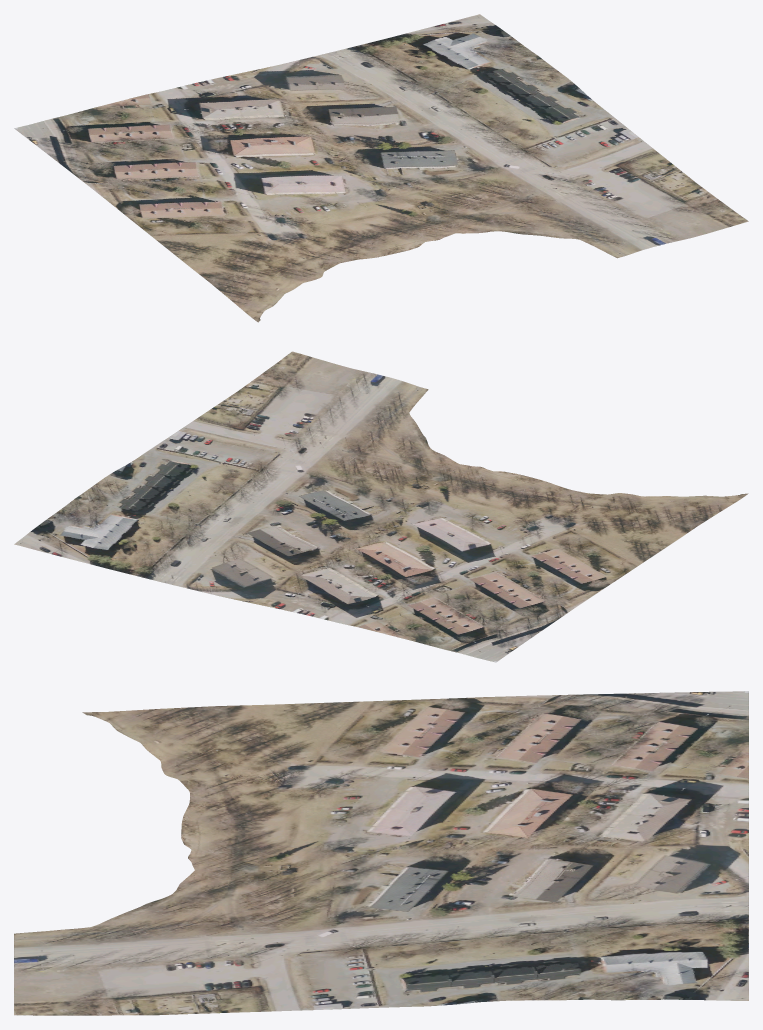
Rendered from CM_Terrain_24488206_6819589.fbx.
3 renders of one model, top to bottom at view 1: azimuth 30°, elevation 25°; view 2: azimuth 150°, elevation 25°; view 3: azimuth 270°, elevation 25°, orthographic. The views are drawn at different scales.
Visible parts, largest first — view 1: CM_Terrain_24488206_6819589_LOD0; view 2: CM_Terrain_24488206_6819589_LOD0; view 3: CM_Terrain_24488206_6819589_LOD0.
Part boxes in pixels (bbox=[...]): CM_Terrain_24488206_6819589_LOD0: bbox=[14, 14, 748, 322]; CM_Terrain_24488206_6819589_LOD0: bbox=[14, 351, 748, 662]; CM_Terrain_24488206_6819589_LOD0: bbox=[14, 691, 748, 1015].
Size of what is drawn, in the model's own units: 205 by 7.28 by 205.
